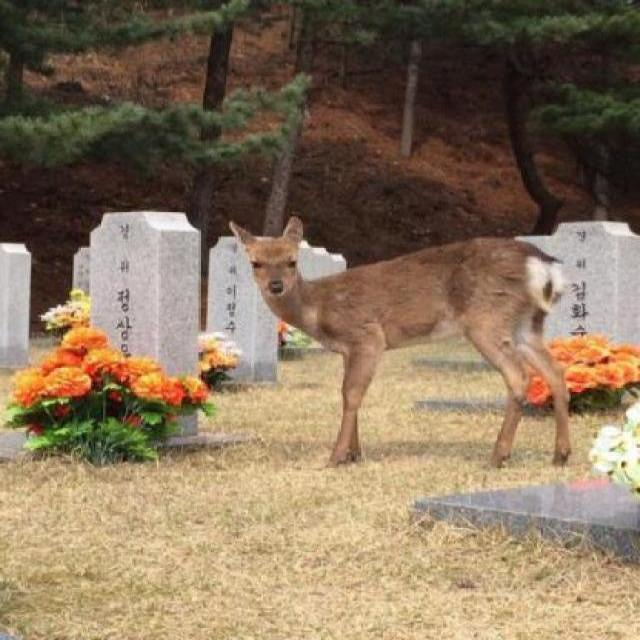deer: (226, 214, 566, 470)
